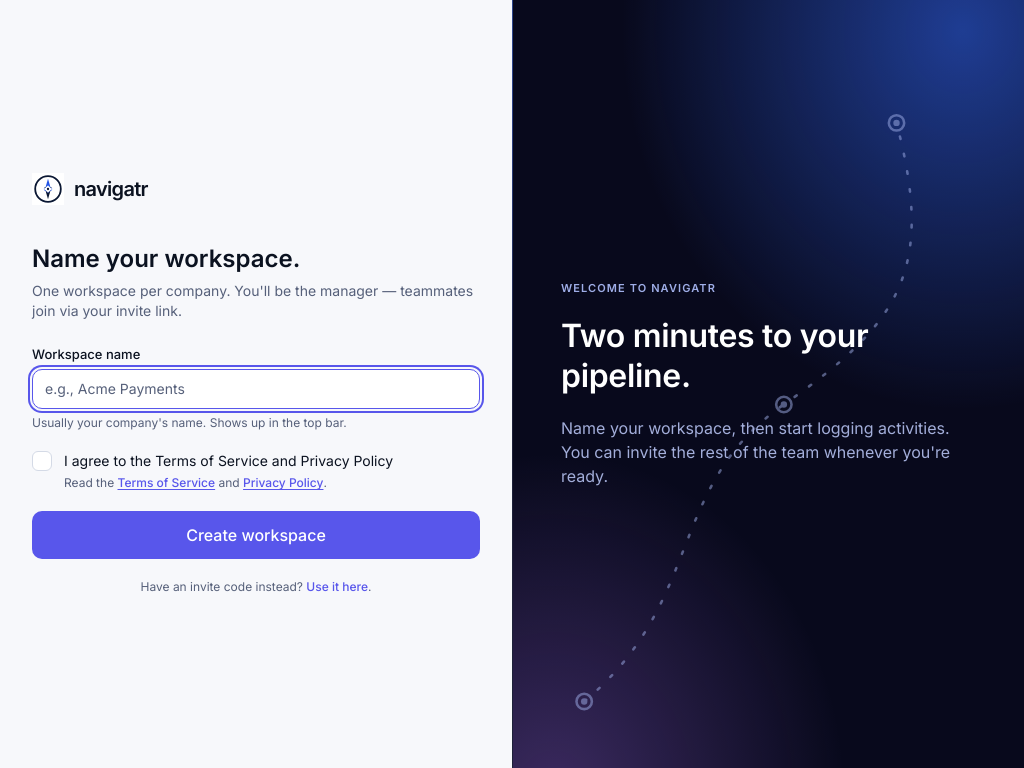
Test: CreateOrganizationPage invite code › does not create a workspace until Terms are agreed
The width and height of the screenshot is (1024, 768).
Step 1. Type "Acme Payments" into the field labelled "Workspace name" → x=256, y=389, box [45, 379, 467, 399]
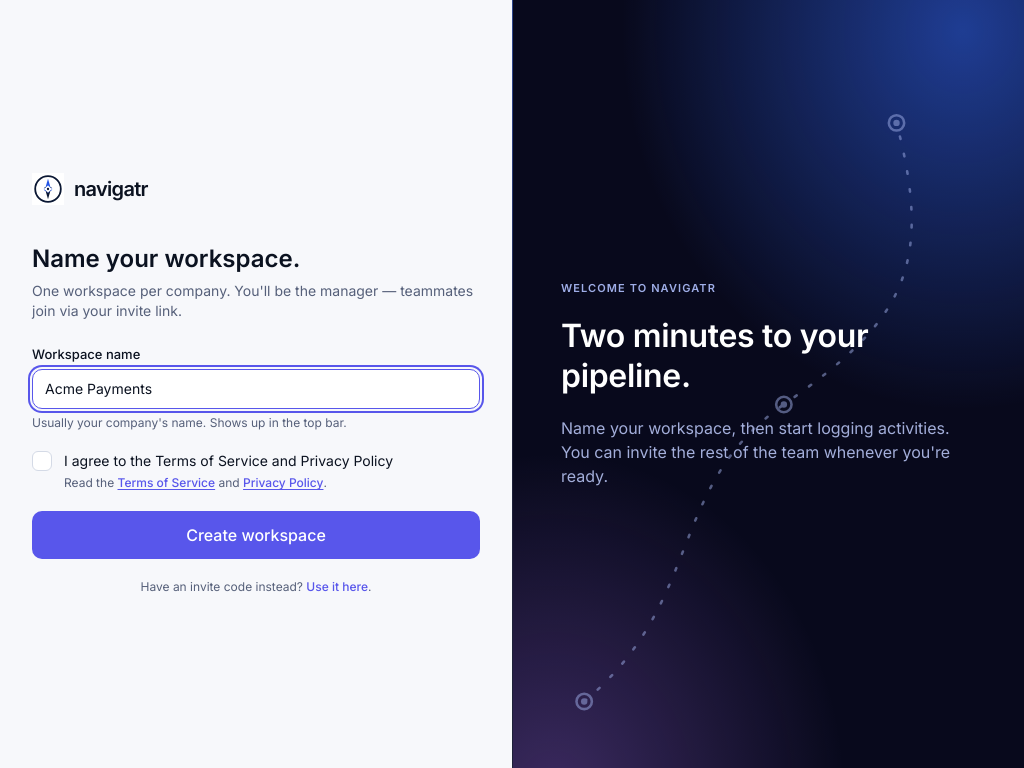
# Submit WITHOUT agreeing.
Step 2. Click the button "Create workspace" → x=256, y=535, box [32, 511, 480, 559]
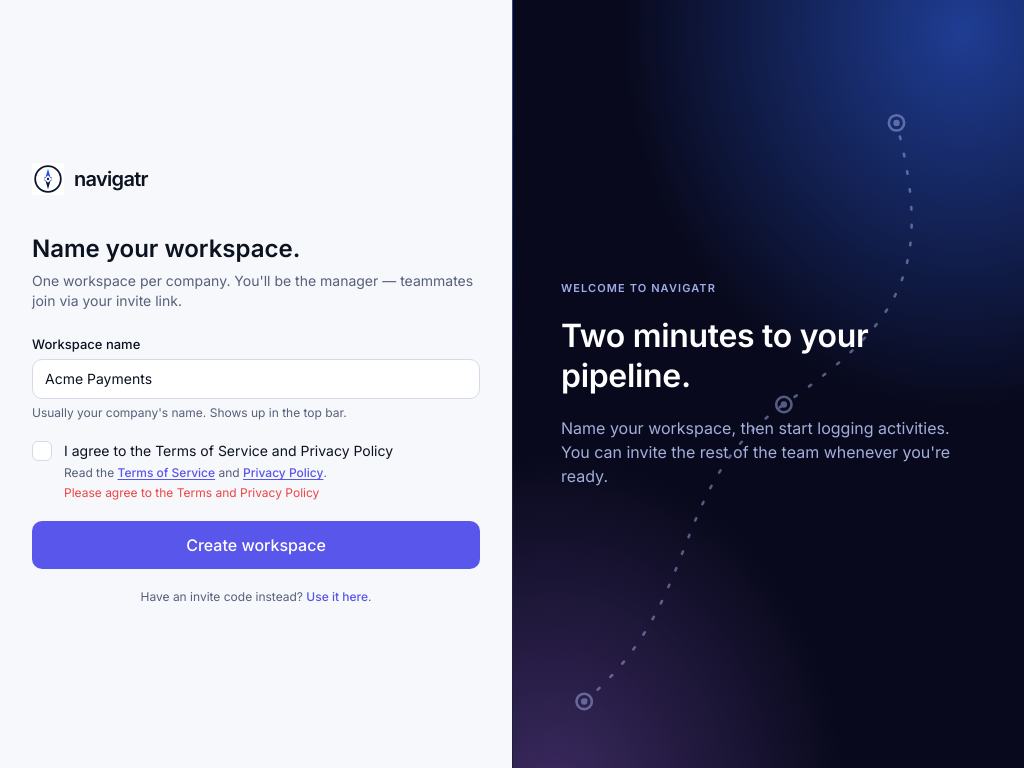
Result: the text "Please agree to the Terms and Privacy Policy" is shown at [64, 485, 319, 500]
